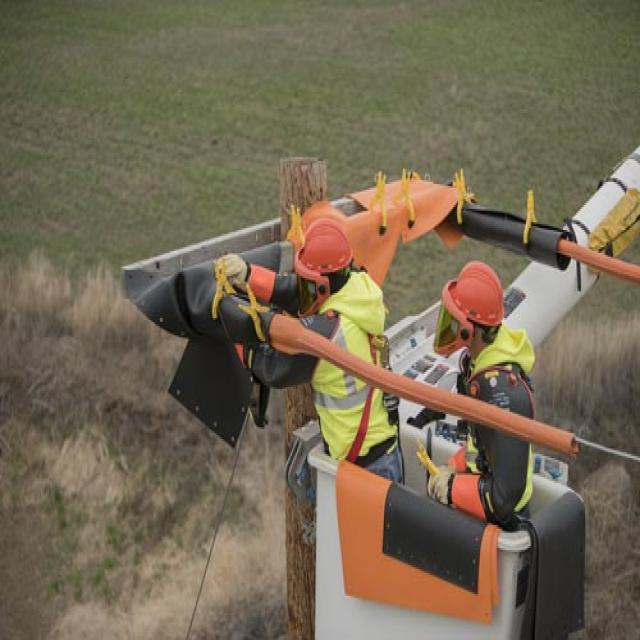gloves: (212, 255, 250, 289), (426, 464, 454, 502)
